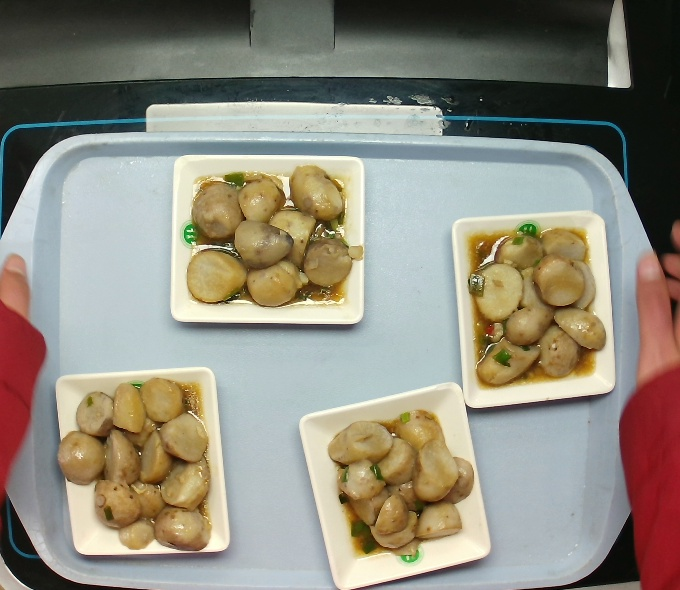wcq-YuTou: (53, 373, 216, 555), (179, 158, 365, 315), (322, 403, 479, 566), (463, 220, 609, 393)
